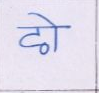e_matra: (27, 12, 58, 25)
